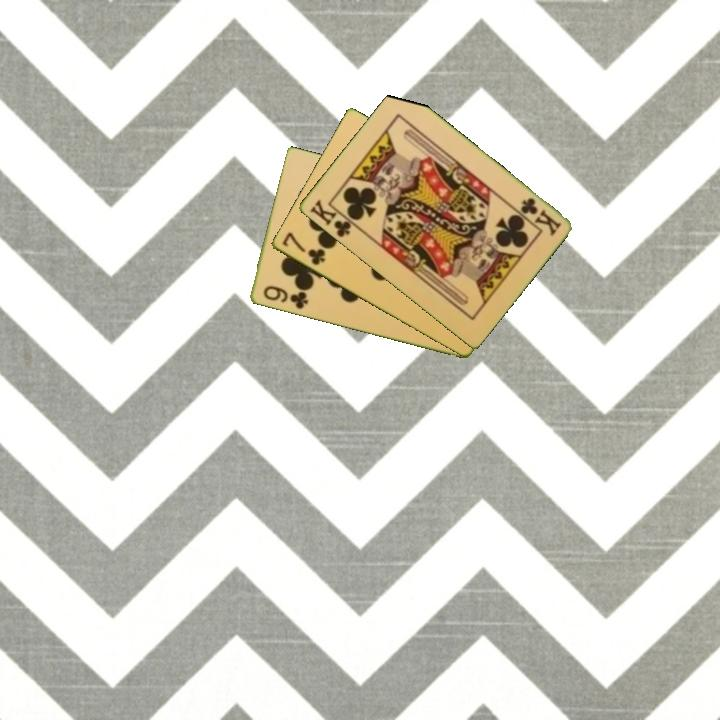7c: (278, 229, 328, 268)
9c: (259, 282, 311, 312)
Kc: (306, 196, 360, 241), (516, 194, 564, 239)
